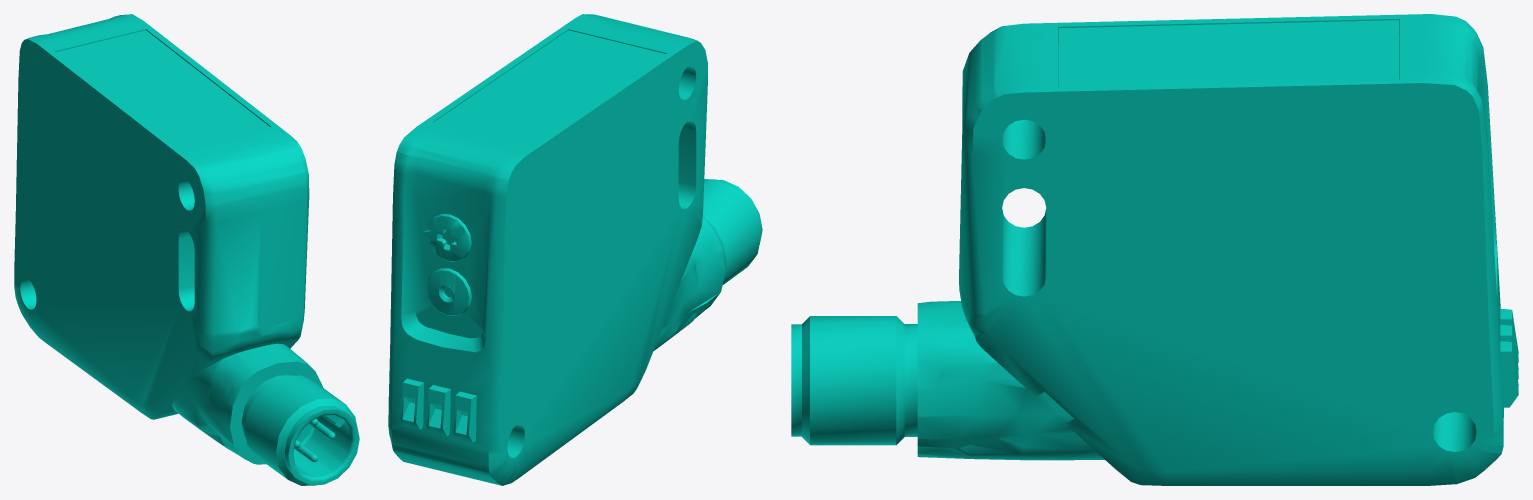
Rendered from OMT300-R200-2EP-IO-V1.gltf.
The picture shows the model from 3 angles, left to right: view 1: azimuth 30°, elevation 25°; view 2: azimuth 150°, elevation 25°; view 3: azimuth 270°, elevation 25°; orthographic projection. The views are drawn at different scales.
Visible parts, largest first — view 1: _Distance_sensor_10001733_0; view 2: _Distance_sensor_10001733_0; view 3: _Distance_sensor_10001733_0.
Part boxes in pixels (box(x1,y1,x2,y2)): _Distance_sensor_10001733_0: box(14, 14, 359, 485); _Distance_sensor_10001733_0: box(388, 14, 762, 485); _Distance_sensor_10001733_0: box(791, 14, 1518, 485).
Bounding box in the file's own units: 15.1 × 41.71 × 67.4.
